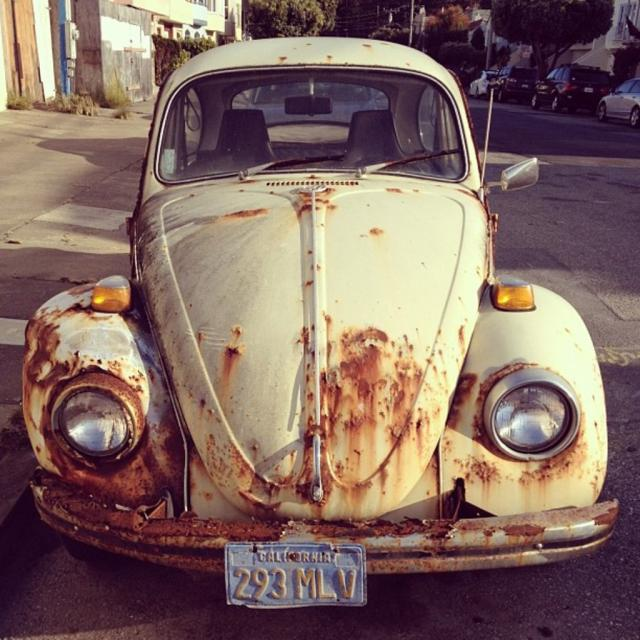car: (13, 34, 627, 615)
